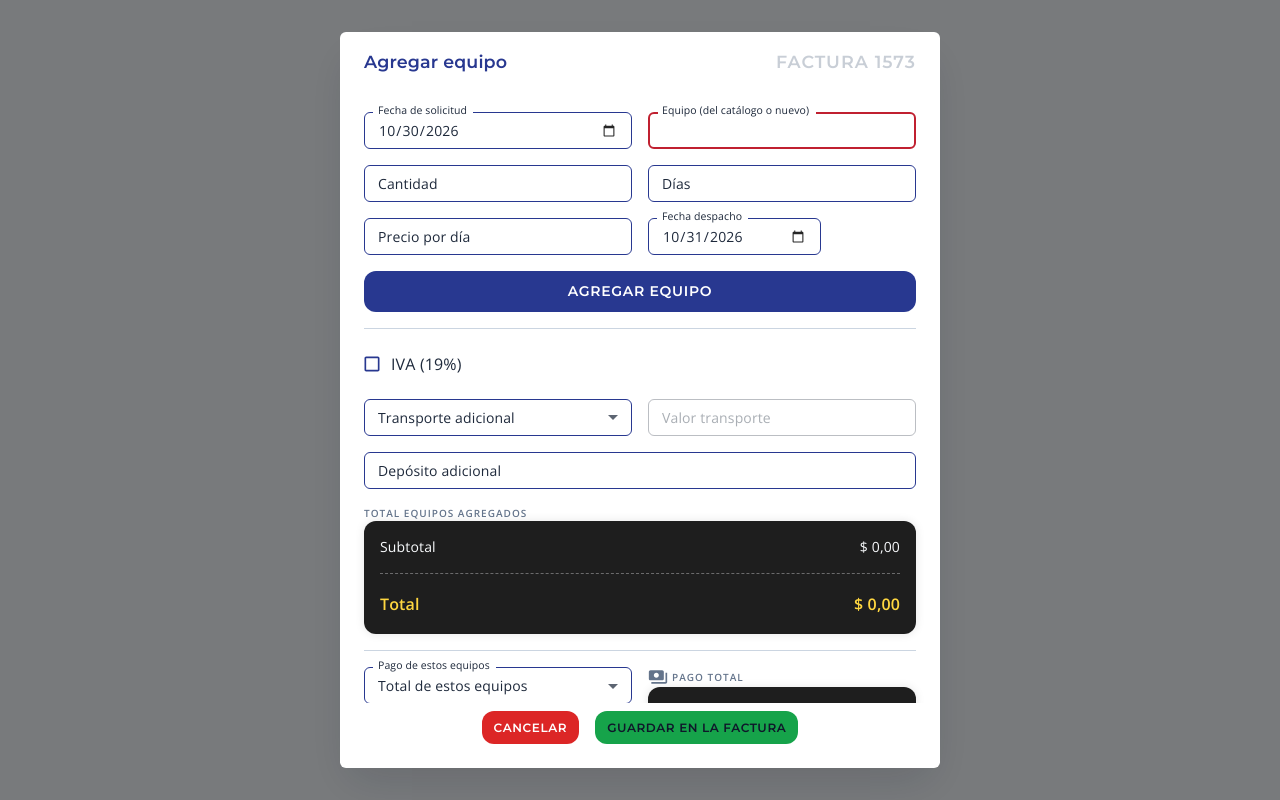
Test case: AgregarEquipoDialog — antes de guardar › sin equipos en la lista no guarda nada
Click the button "Guardar en la factura": click(697, 728) [595,711,798,744]
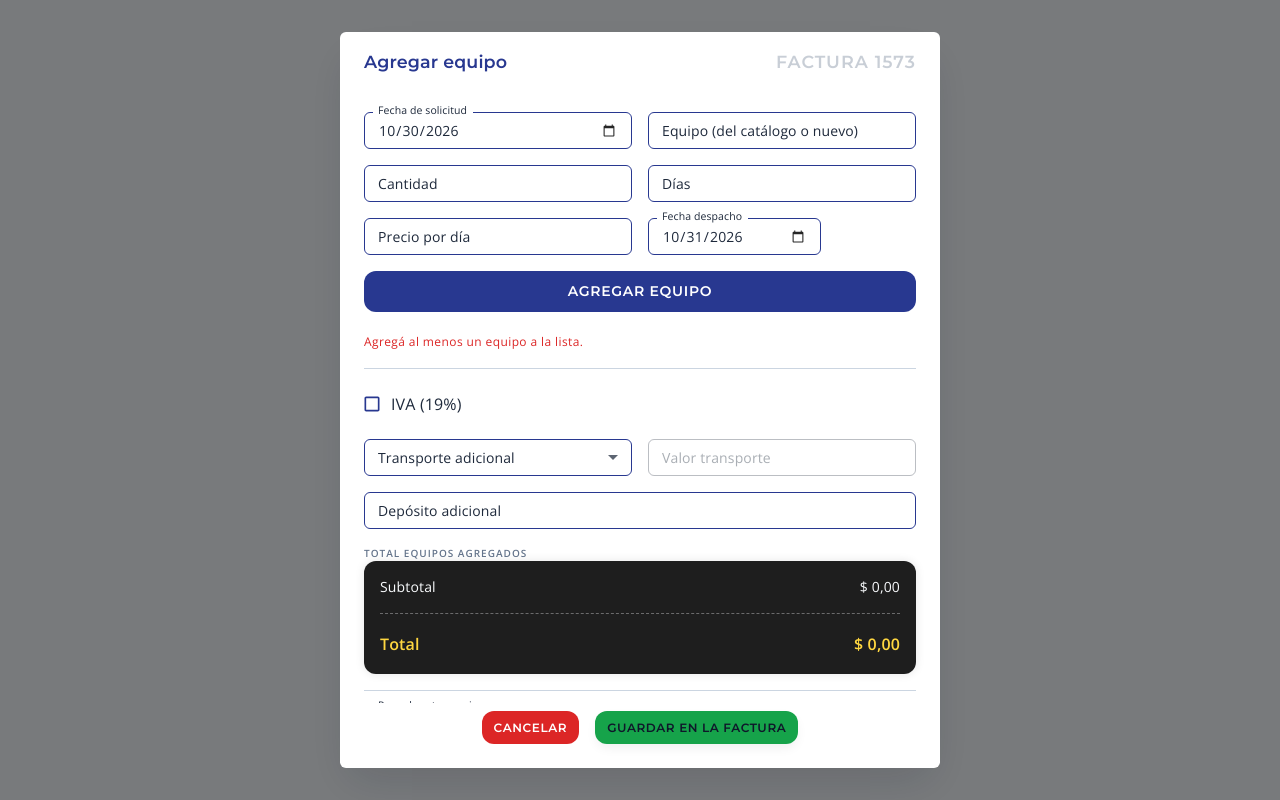
Expected: the text "Agregá al menos un equipo a la lista." is shown, [364,333,583,350]
